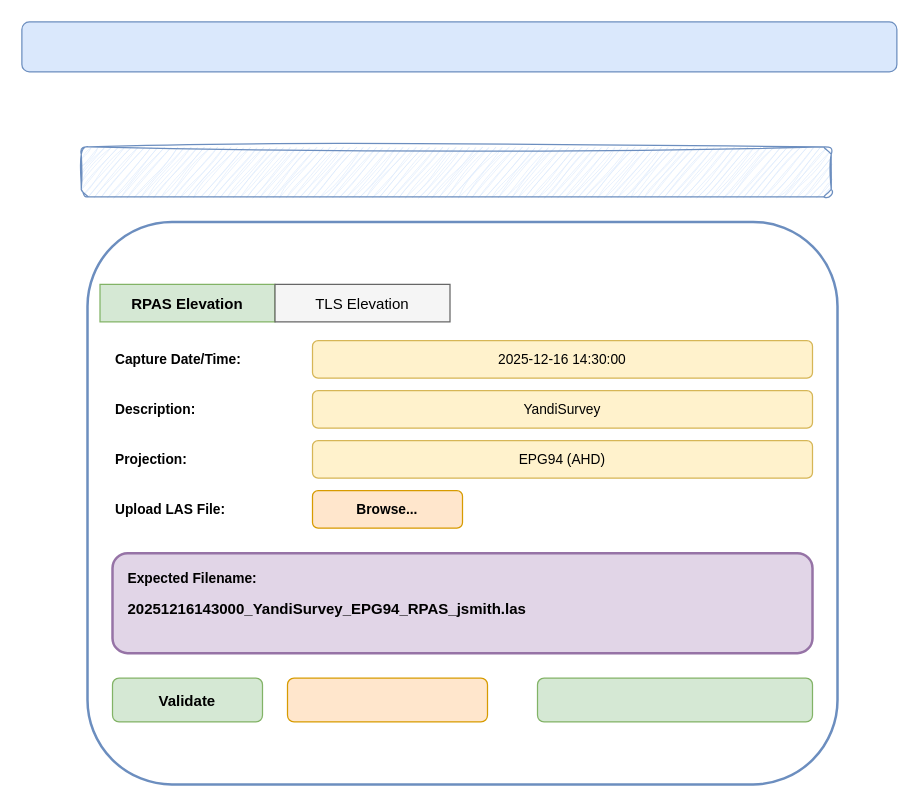
The diagram is 919 pixels wide and 808 high, and some of its shapes have lost their labels. Here are the shapes that lost their labels. From the top down, the box of each, then its label:
(21, 21, 897, 72): WIDGET USER FLOW
(80, 146, 831, 197): RPAS Data Loader Widget
(286, 677, 488, 722): Upload and Process
(536, 677, 812, 722): Status: Processing initiated...
